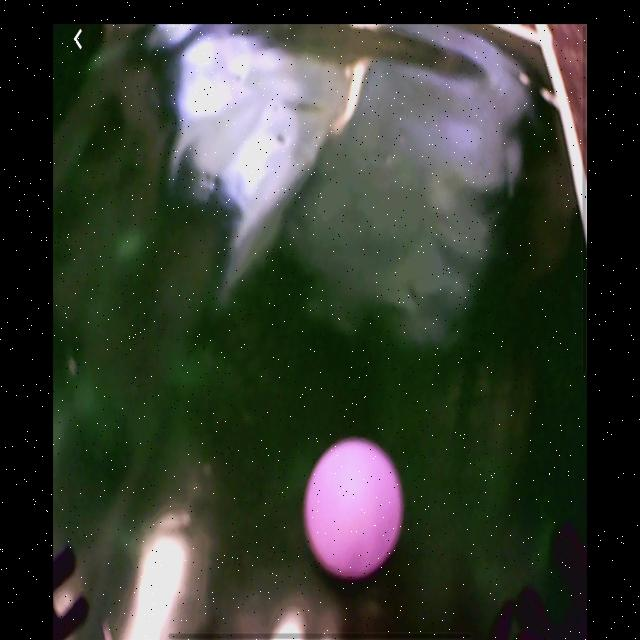ball: (305, 440, 404, 583)
